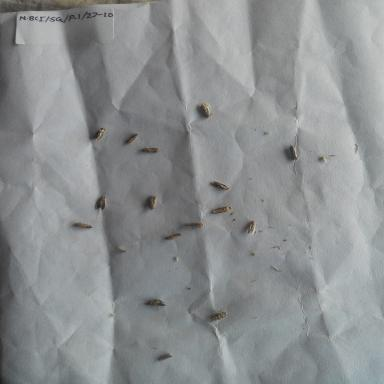pbw: (240, 213, 262, 236), (195, 100, 214, 122), (284, 141, 304, 161), (87, 126, 108, 144), (142, 297, 168, 311), (142, 194, 158, 216), (158, 232, 189, 243), (206, 308, 229, 322), (153, 348, 174, 363), (209, 179, 233, 192), (72, 221, 96, 234), (93, 192, 109, 210), (176, 220, 212, 228), (209, 204, 235, 215), (124, 130, 140, 146), (140, 146, 161, 154)
